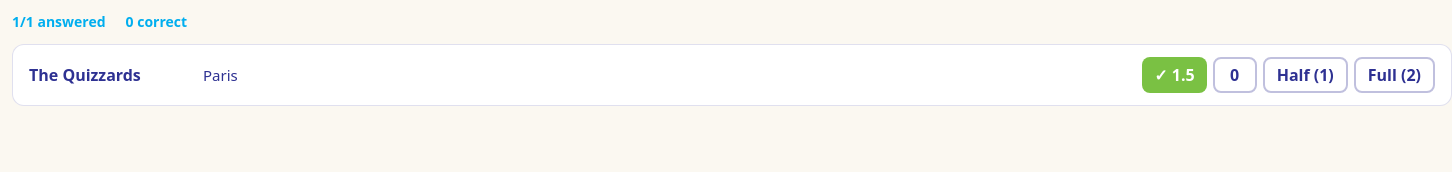
Test: AnswersPanel › custom points › starts the input at the amount already awarded
Click the button named "grade the quizzards custom points". click: coordinates (1174, 75)
box: [1142,57,1207,93]
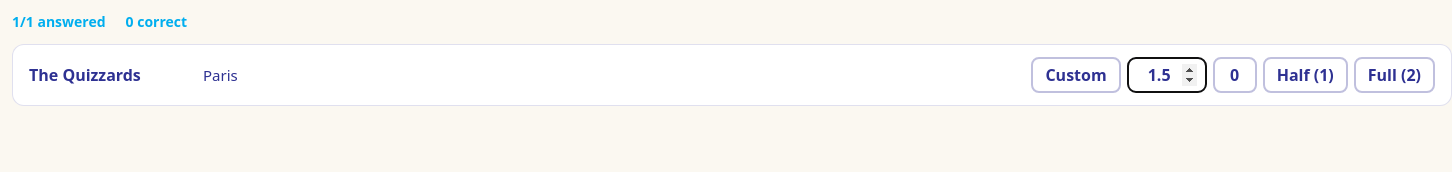
Expected: the number field named "custom points for the quizzards" holds "1.5", [1127,57,1207,93]
